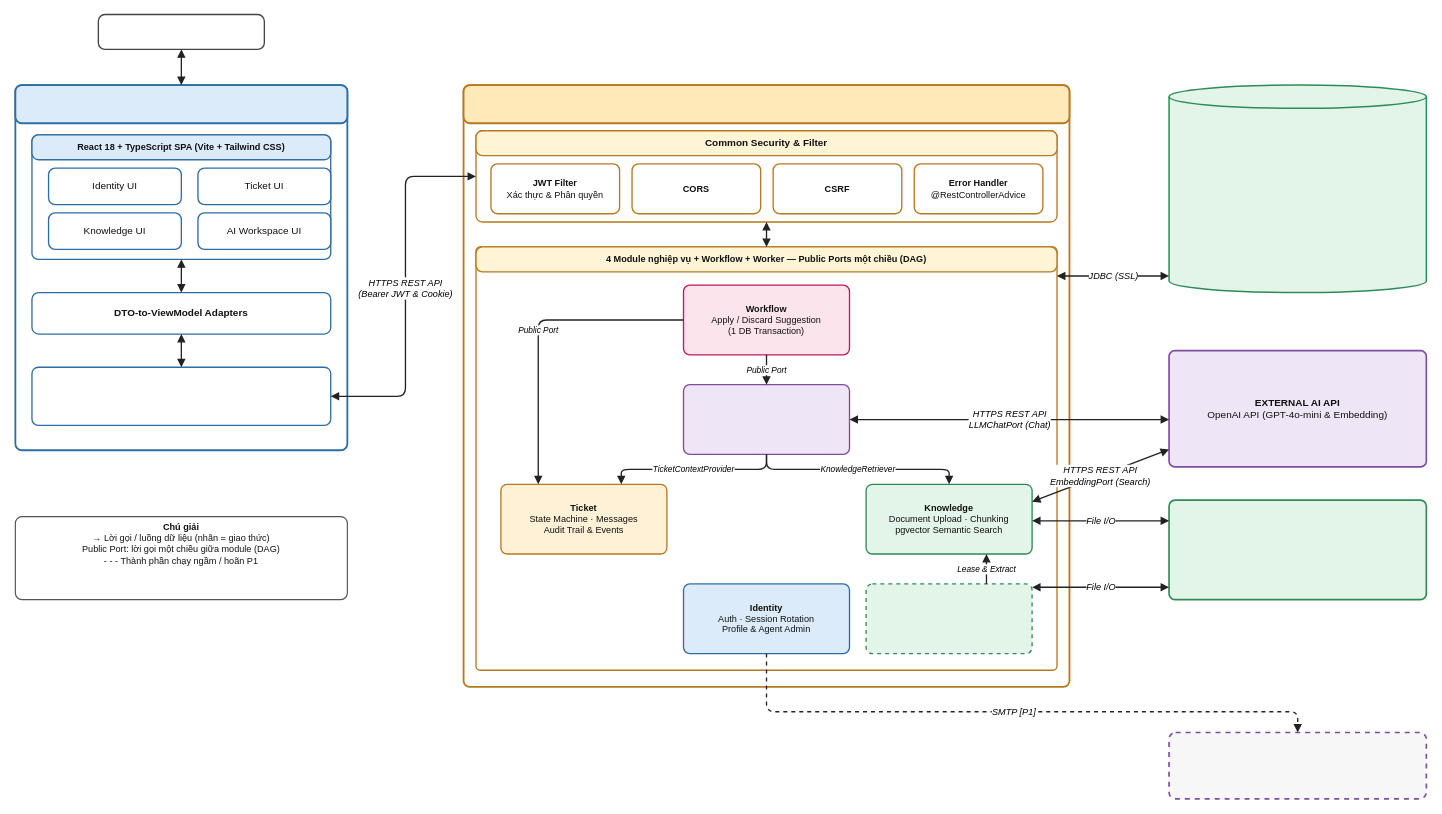
Some shapes in this 1442 by 814 pixel diagram are drawn without their labels. The shapes that lost their labels are listed below. From the top down, each one's centre as x and y in pixels, then its label:
At pixel 181 31: "Người dùng Customer / Agent / Admin".
At pixel 181 104: "TẦNG 1 — PRESENTATION Client: Web Browser".
At pixel 766 104: "TẦNG 2 — APPLICATION / BUSINESS LOGIC Spring Boot 3 (Java 21) — Modular Monolith".
At pixel 1297 188: "DATABASE (Supabase Cloud) PostgreSQL 16 + pgvector (Singapore ap-southeast-1)".
At pixel 181 396: "Axios Single-Flight 401 Refresh Interceptor".
At pixel 766 419: "AI RAG Prompt Builder Citations & Snapshot".
At pixel 1297 549: "FILE STORAGE Private Storage Volume (PDF, TXT, MD)".
At pixel 948 618: "Ingestion Worker Async Polling (SKIP LOCKED)".
At pixel 1297 765: "EXTERNAL MAIL [P1] SMTP Service (Password Reset)".
